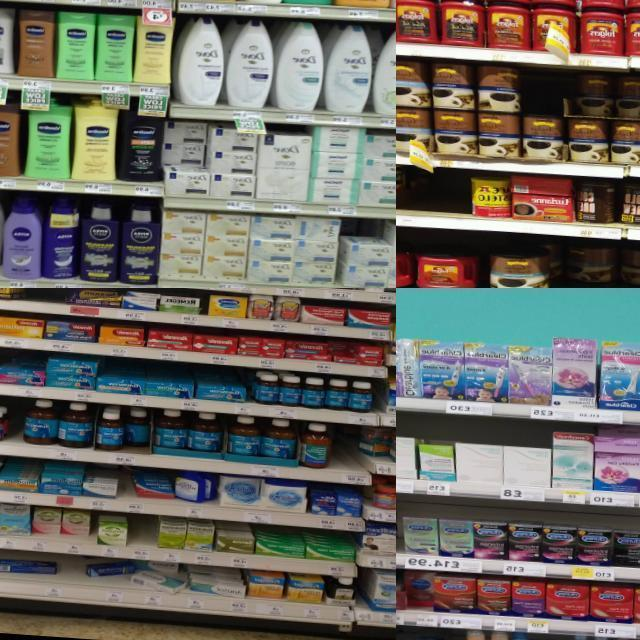Imprecise: (573, 69, 640, 164), (542, 237, 640, 289), (161, 110, 210, 200), (84, 559, 189, 592), (119, 399, 154, 452), (0, 558, 58, 578)
